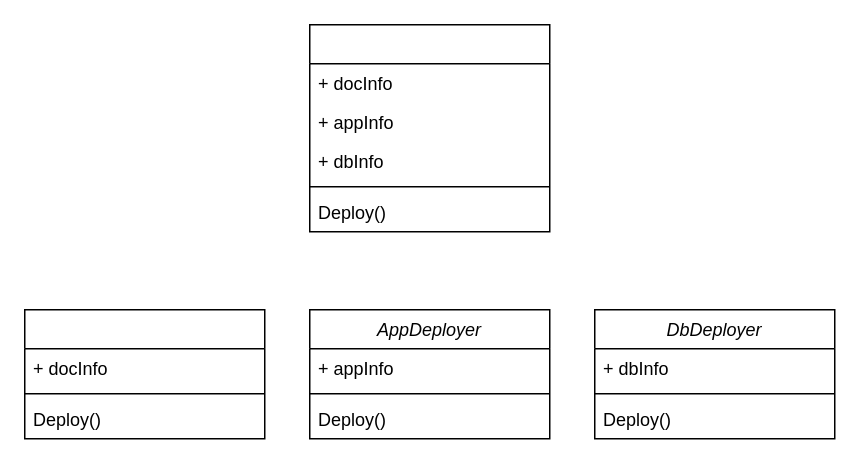
Some shapes in this 860 by 464 pixel diagram are drawn without their labels. The shapes that lost their labels are listed below. From the top down, each one's box as (x1, y1, x2, y2) in pixels, then its label:
(308, 23, 550, 232): Deployer
(23, 308, 265, 439): DocDeployer
